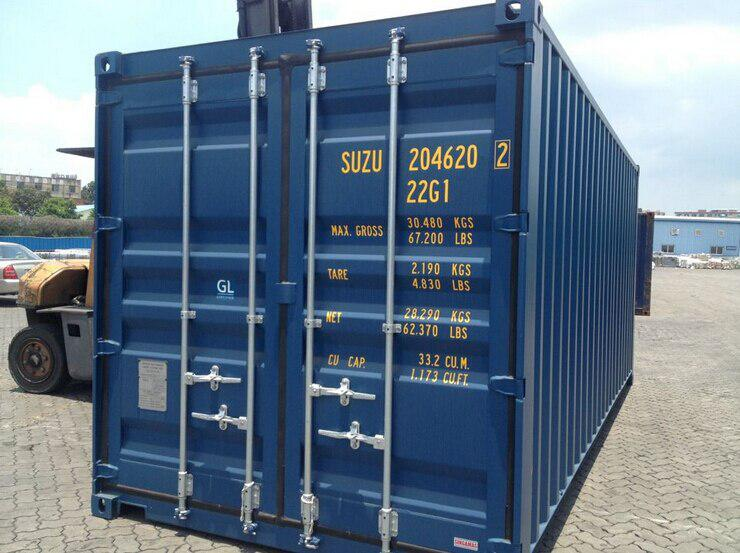ContainerNum: (338, 138, 513, 205)
